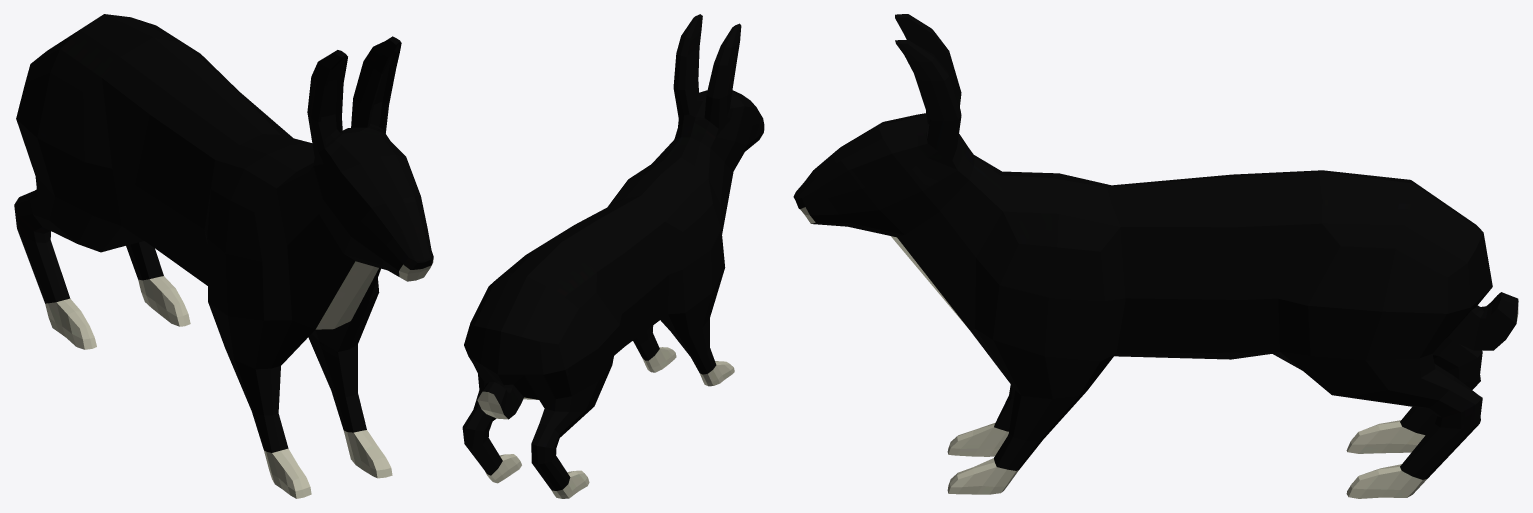
Rendered from prop_pa_rabbit.glb.
3 renders of one model, left to right at view 1: azimuth 30°, elevation 25°; view 2: azimuth 150°, elevation 25°; view 3: azimuth 270°, elevation 25°, orthographic. The views are drawn at different scales.
Parts seen in each view (by area): view 1: 16rabbitFinal; view 2: 16rabbitFinal; view 3: 16rabbitFinal.
Part boxes in pixels (<box>): 16rabbitFinal: <box>14,14,433,498</box>; 16rabbitFinal: <box>462,14,764,498</box>; 16rabbitFinal: <box>793,14,1518,498</box>.
Size of the model in its own units: 0.1447 by 0.3833 by 0.5652.
1 material, 1 textured.
